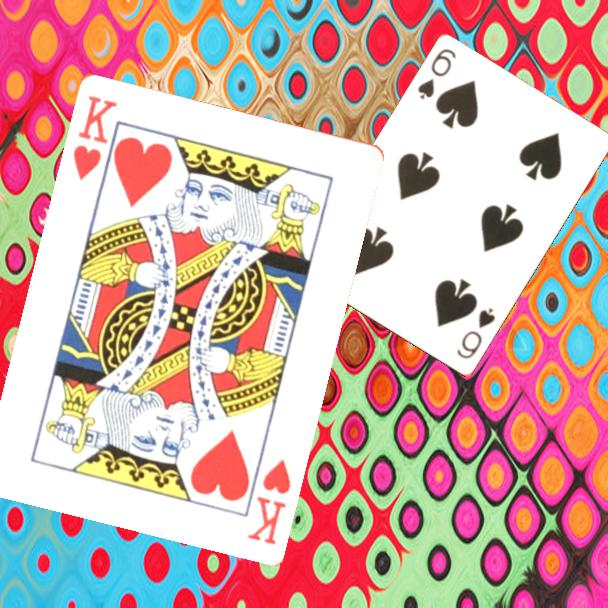h13: (69, 91, 120, 183), (243, 454, 293, 547)
s06: (453, 304, 498, 362), (414, 45, 459, 103)
